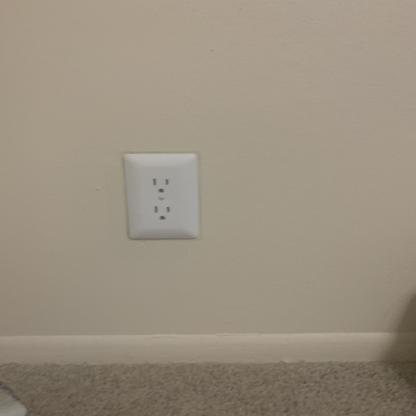OUTLET: (124, 154, 198, 238)
